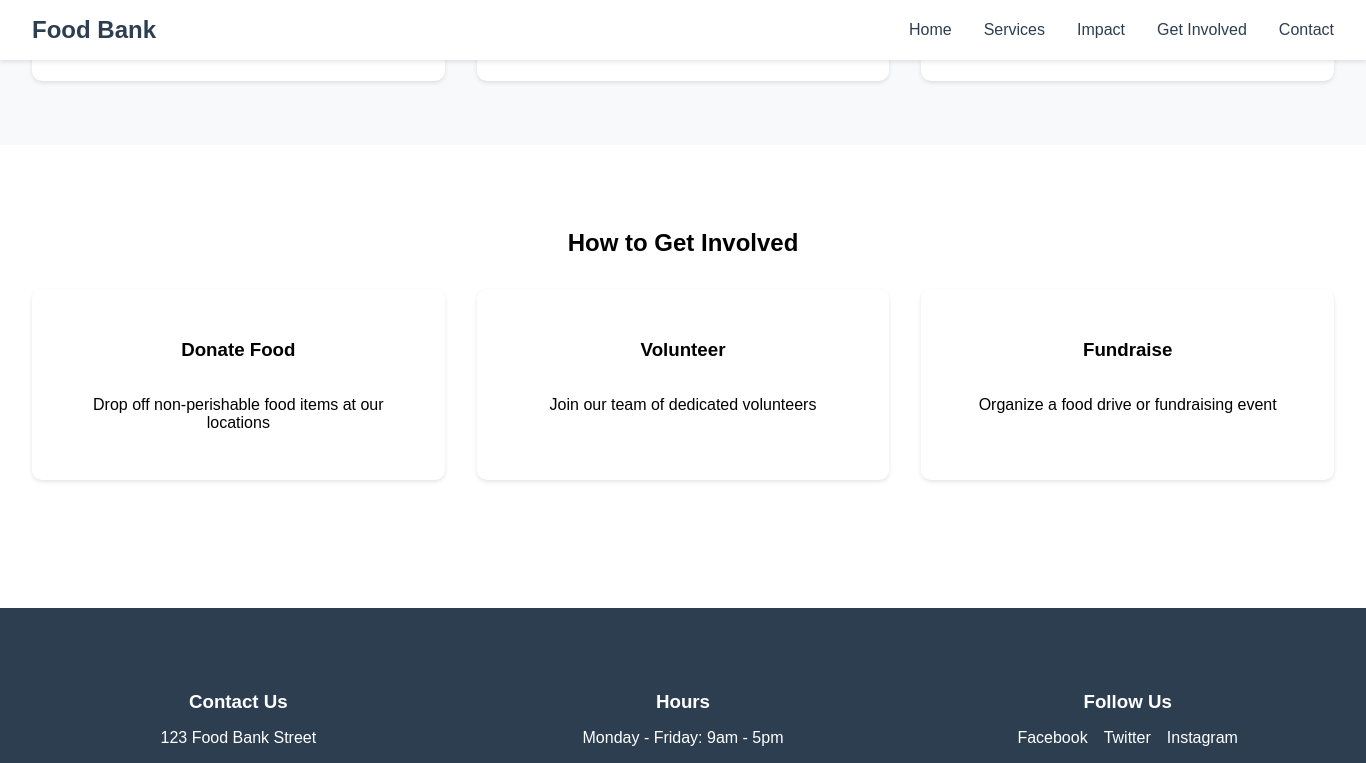
Test: submitting the volunteer form thanks the user and closes the modal
(page scrolled)
Click the button "Volunteer Join our team of dedicated volunteers": (683, 350) [477,288,889,480]
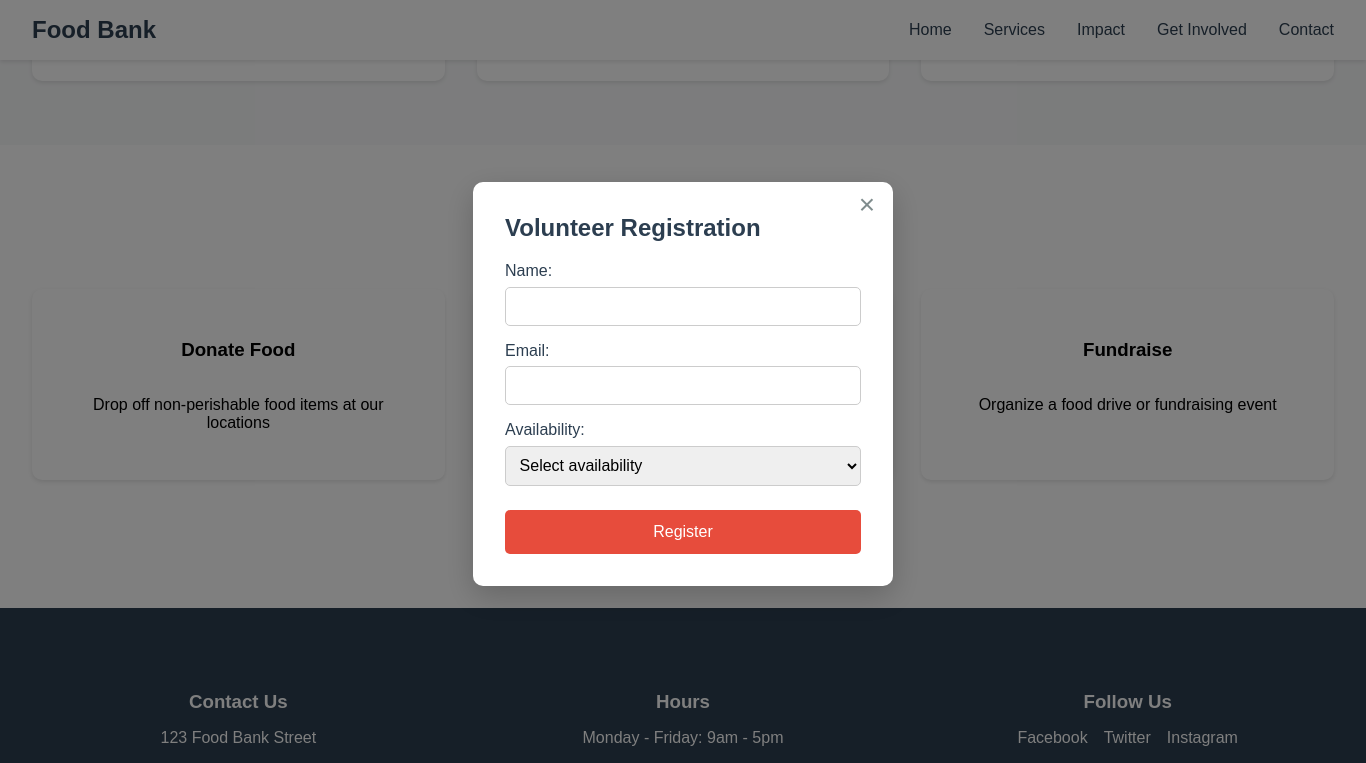
In the field labelled "Name:": (683, 306) [505,287,861,326], type "Sam"
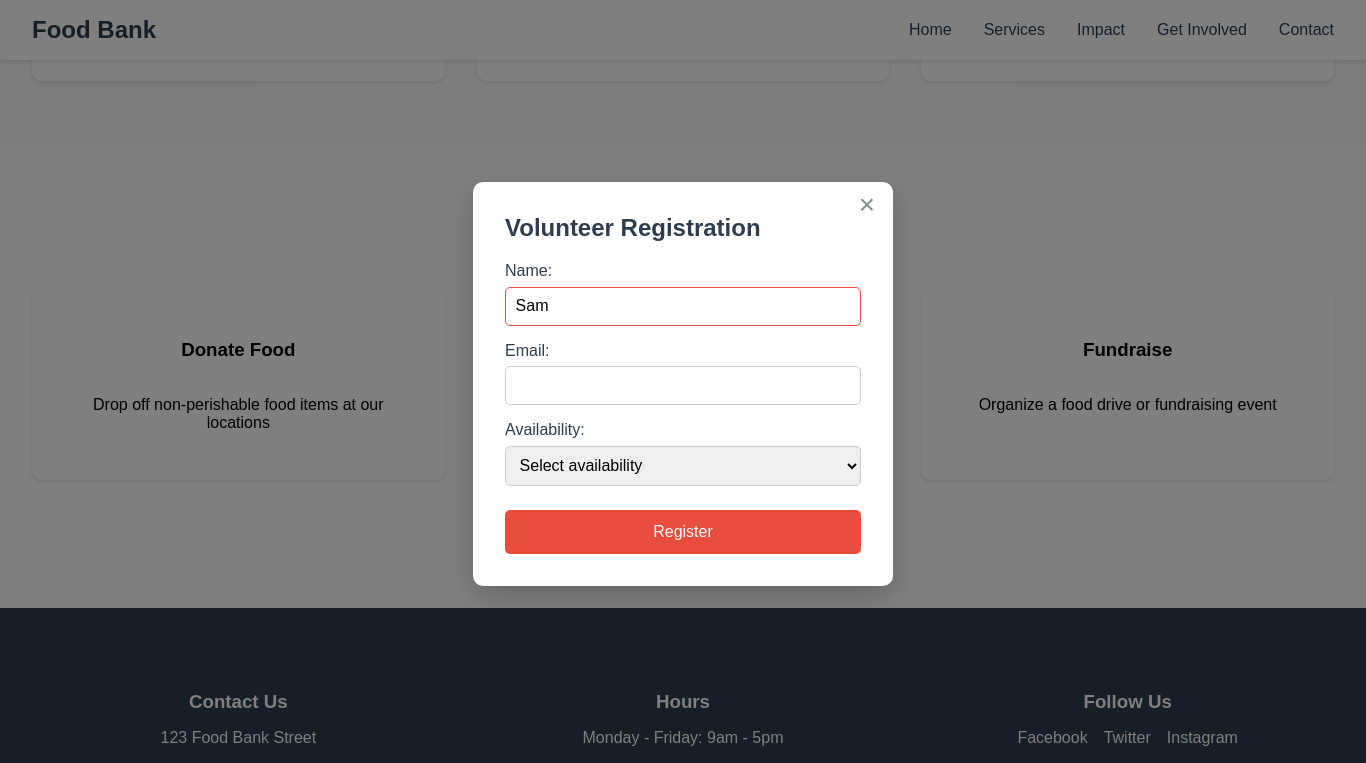
In the field labelled "Email:": (683, 386) [505,366,861,406], type "sam@example.com"
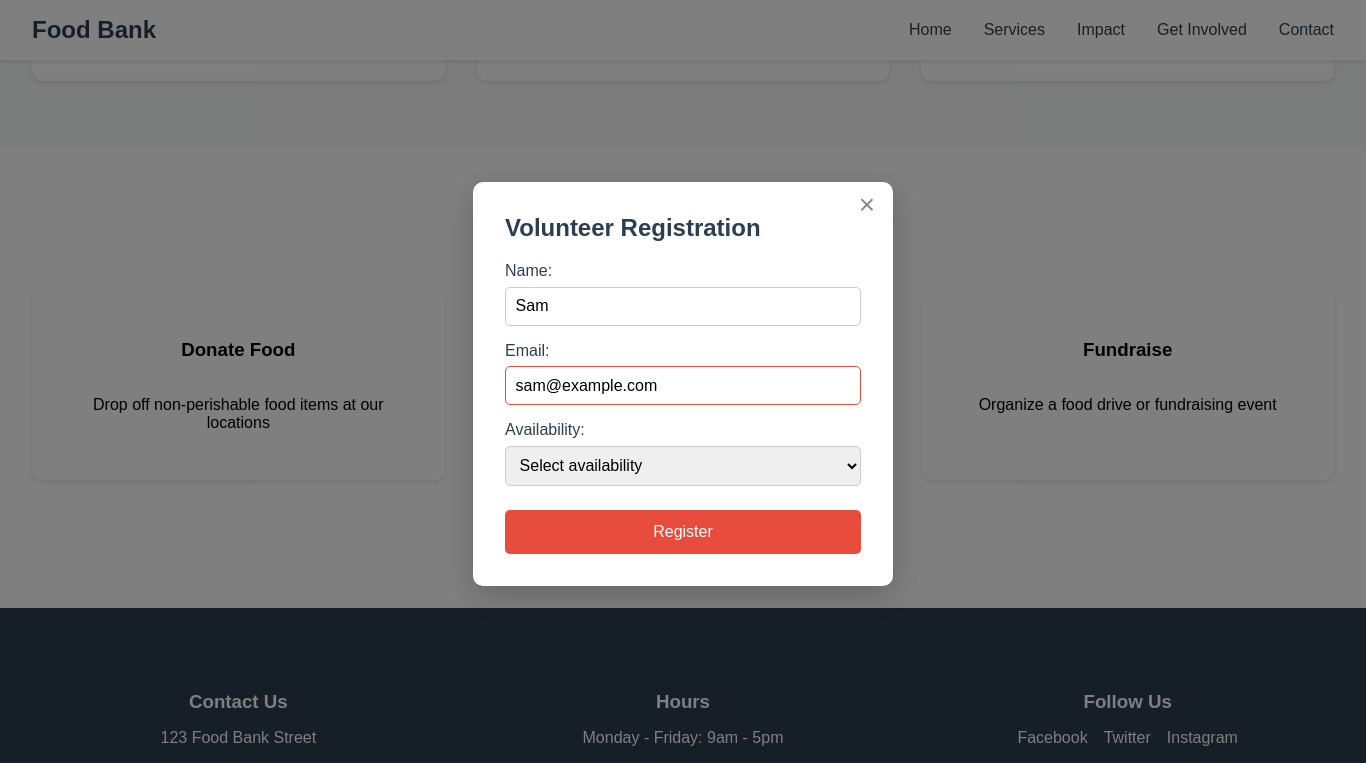
Select "Weekends" in the dropdown labelled "Availability:": (683, 466) [505,446,861,486]
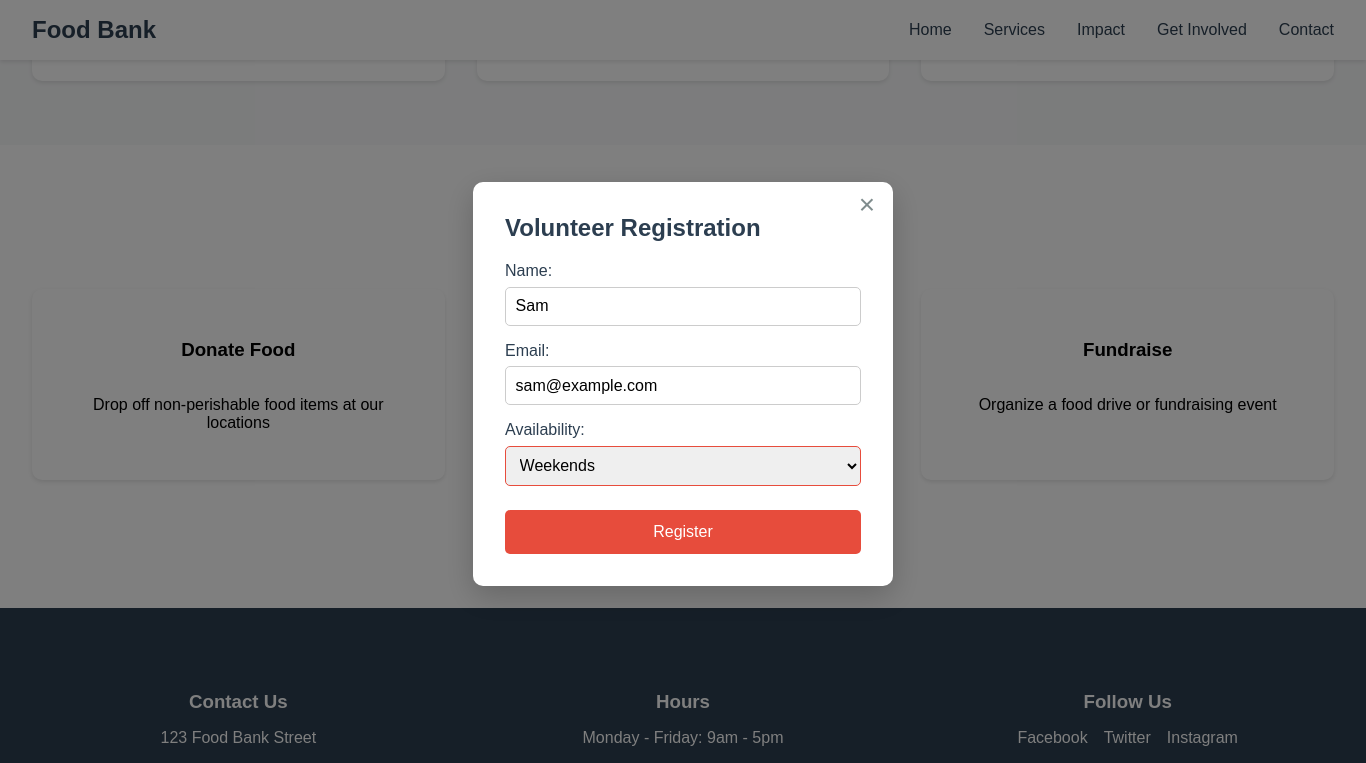
Click the button "Register": (683, 532) [505,510,861,554]
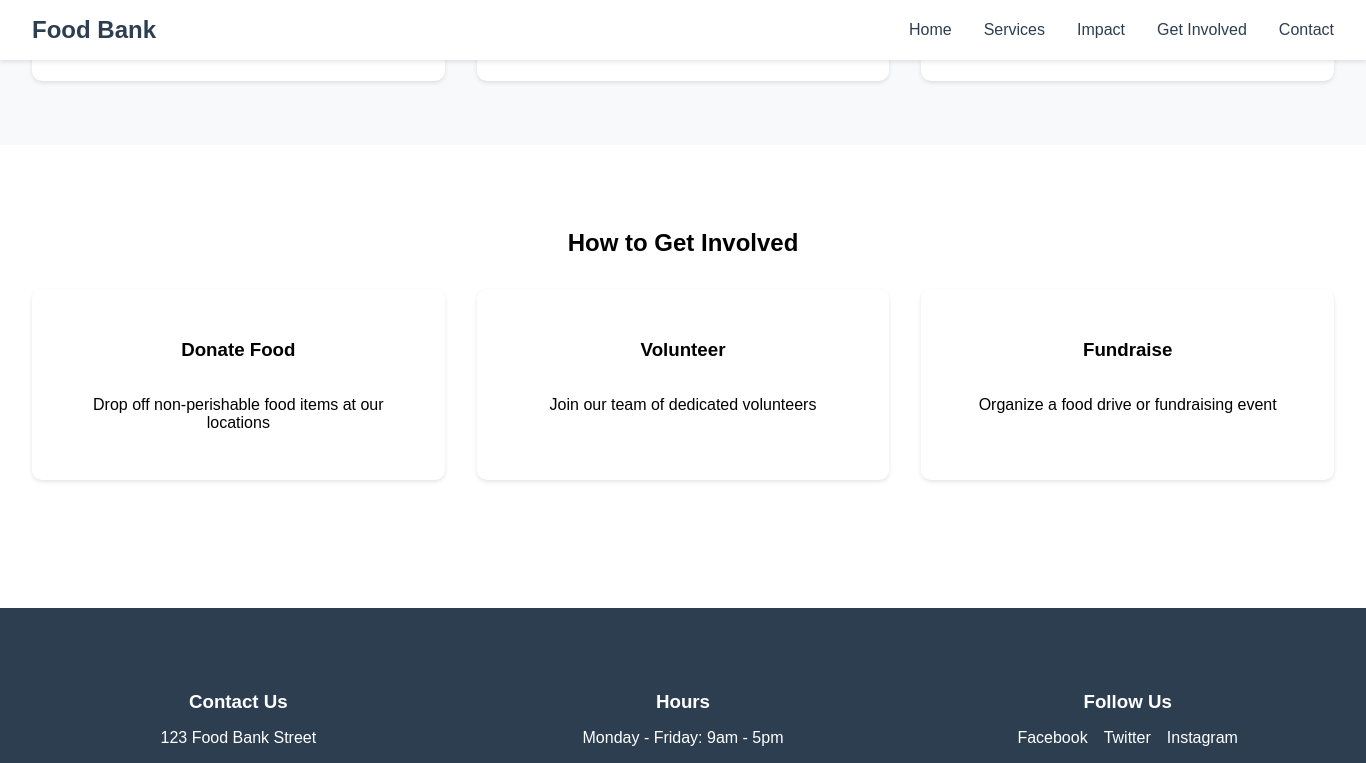
Result: the dialog is gone
